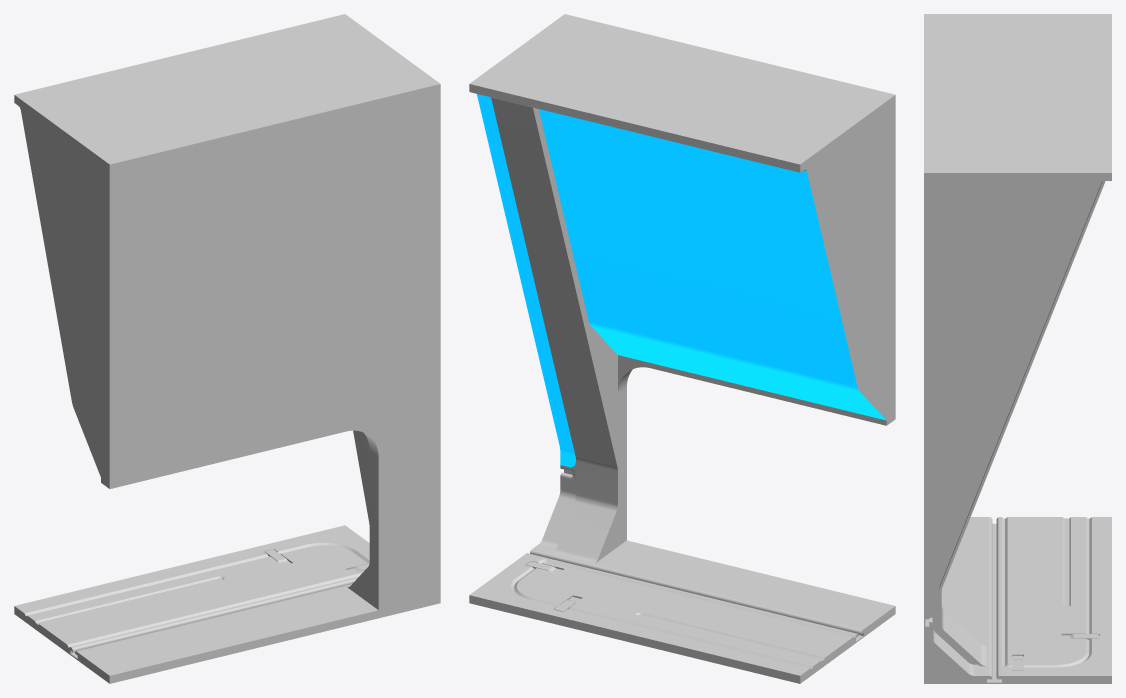
The model's file is SM_MOD_Laser_Wall_04_DoorWall_02_L.fbx.
3 renders of one model, left to right at view 1: azimuth 30°, elevation 25°; view 2: azimuth 150°, elevation 25°; view 3: azimuth 270°, elevation 25°, orthographic.
Parts seen in each view (by area): view 1: SM_MOD_Laser_Wall_04_DoorWall_02_L_LOD0; view 2: SM_MOD_Laser_Wall_04_DoorWall_02_L_LOD0; view 3: SM_MOD_Laser_Wall_04_DoorWall_02_L_LOD0.
Part boxes in pixels (left/top/right/bottom): SM_MOD_Laser_Wall_04_DoorWall_02_L_LOD0: left=14, top=14, right=440, bottom=683; SM_MOD_Laser_Wall_04_DoorWall_02_L_LOD0: left=469, top=14, right=895, bottom=683; SM_MOD_Laser_Wall_04_DoorWall_02_L_LOD0: left=924, top=14, right=1111, bottom=683.
Size of what is drawn, in the model's own units: 512 by 768 by 256.
